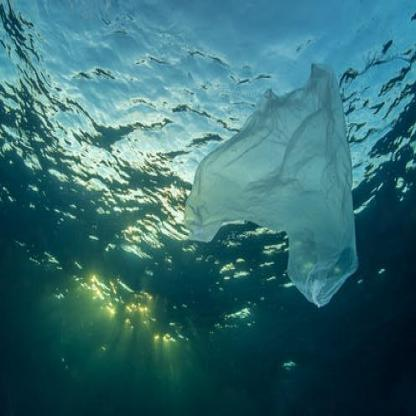Rác: (184, 57, 364, 315)
